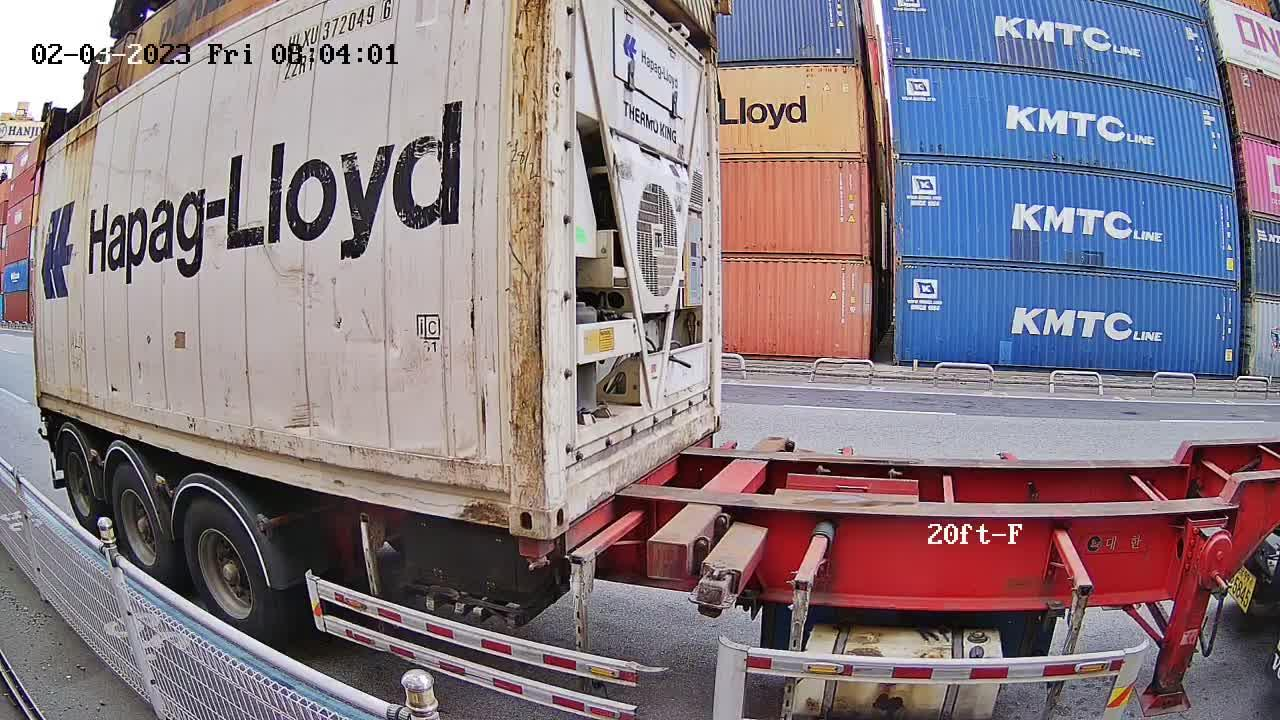Chassis: (556, 432, 714, 558)
Cone: (516, 535, 553, 574)
Hole_L: (545, 452, 600, 544)
Hole_R: (475, 462, 550, 540), (699, 388, 721, 439)
Tire: (183, 501, 271, 649), (113, 467, 165, 580), (63, 442, 97, 530)
